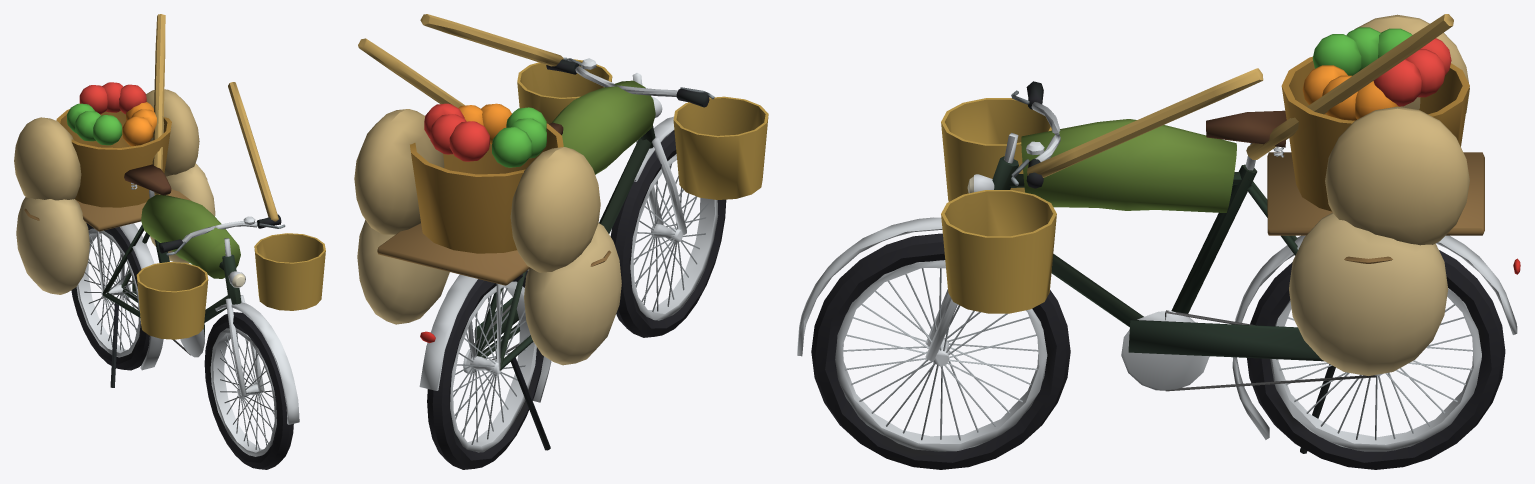
File: veh-packBike.glb
3 views of the same model, side by side, from view 1: azimuth 30°, elevation 25°; view 2: azimuth 150°, elevation 25°; view 3: azimuth 270°, elevation 25° (orthographic). The views are drawn at different scales.
Parts seen in each view (by area): view 1: body, wheel0, wheel1; view 2: body, wheel1, wheel0; view 3: body, wheel0, wheel1.
Boxes of the visible parts, x1,y1,x2,y2 form: body: (14, 14, 325, 424); wheel0: (204, 312, 293, 469); wheel1: (71, 223, 149, 370); body: (354, 14, 768, 450); wheel1: (427, 270, 543, 469); wheel0: (610, 130, 726, 337); body: (797, 14, 1520, 453); wheel0: (811, 233, 1070, 469); wheel1: (1247, 250, 1505, 469).
Size of the model in its own units: 0.92 by 1.56 by 2.
